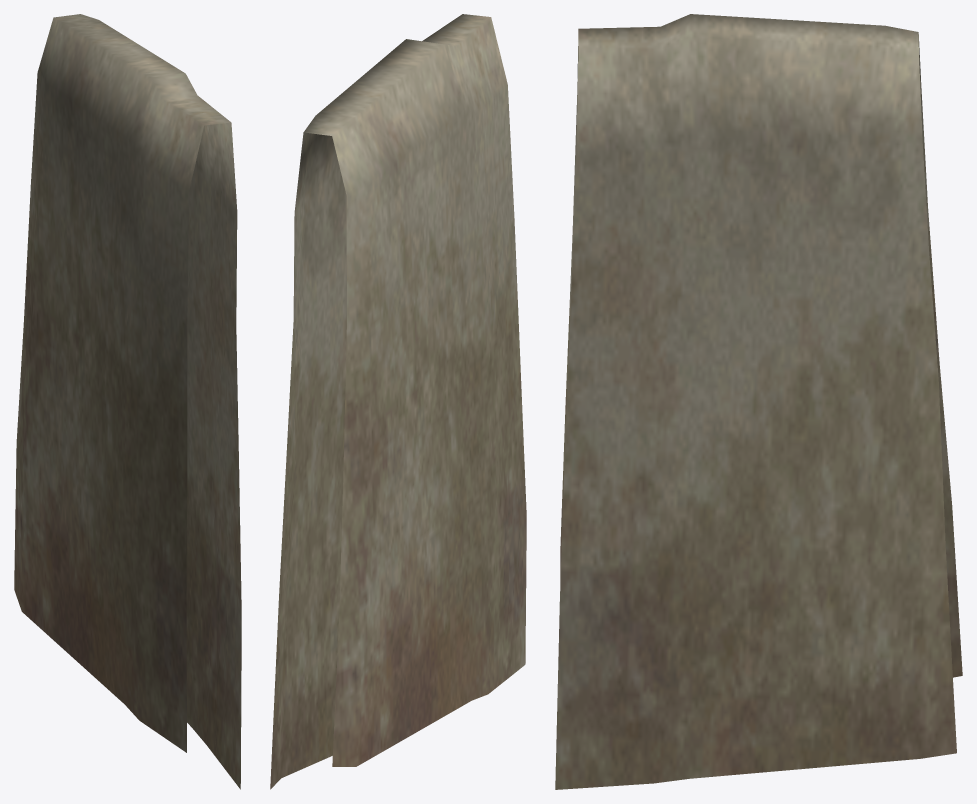
Rendered from bathroom_towel_lod1.glb.
The picture shows the model from 3 angles, left to right: view 1: azimuth 30°, elevation 25°; view 2: azimuth 150°, elevation 25°; view 3: azimuth 270°, elevation 25°; orthographic projection. The views are drawn at different scales.
Parts seen in each view (by area): view 1: surf0; view 2: surf0; view 3: surf0.
Part boxes in pixels (left/top/right/bottom): surf0: left=14, top=14, right=241, bottom=789; surf0: left=270, top=14, right=526, bottom=789; surf0: left=555, top=14, right=962, bottom=789.
Size of the model in its own units: 3.21 by 25.69 by 12.49.
